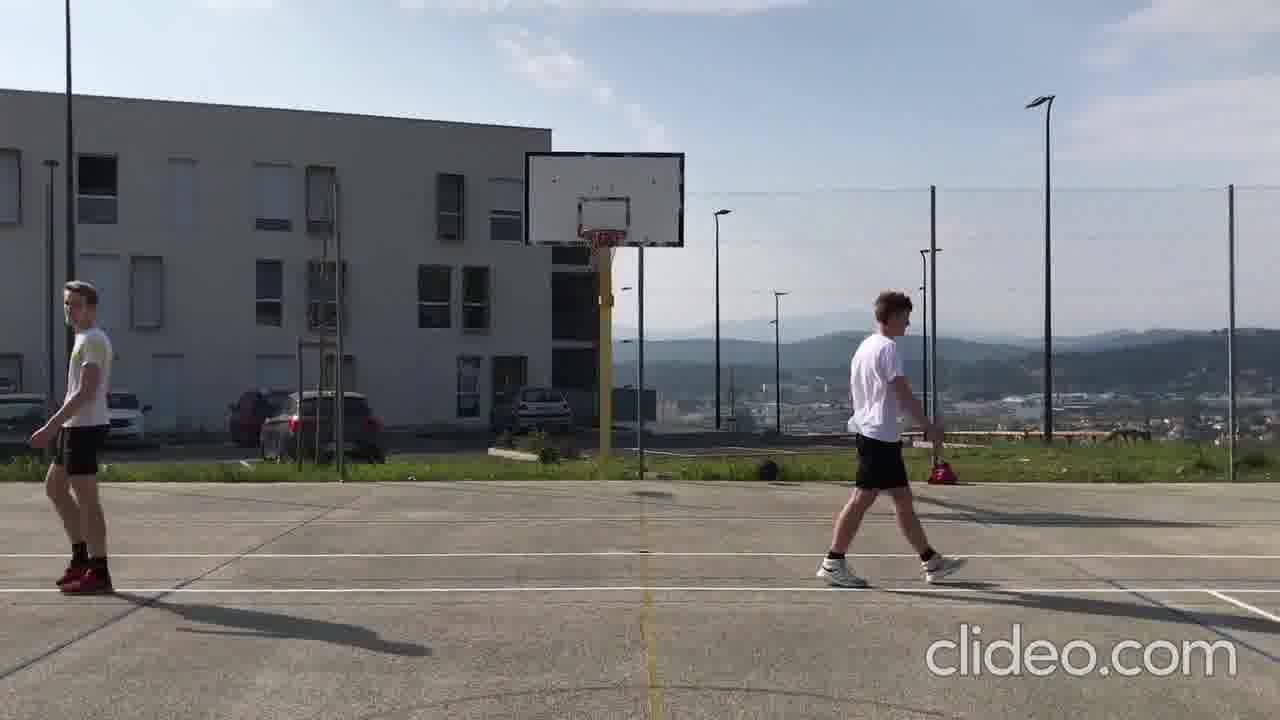jugador: (18, 264, 131, 604)
